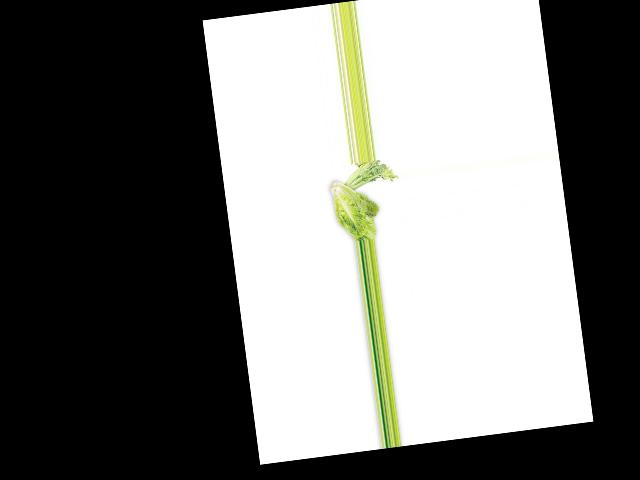lettuce: (330, 171, 388, 244)
